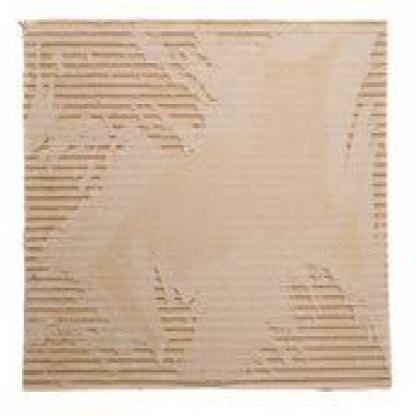CARDBOARD: (18, 17, 390, 389)
